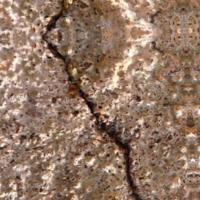crack: (33, 0, 141, 198)
